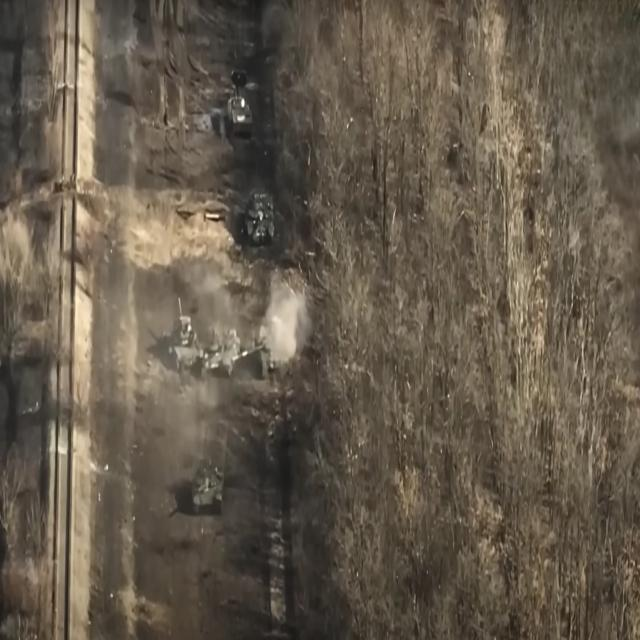MBT: (192, 462, 221, 516), (193, 479, 210, 518), (193, 476, 214, 507)
